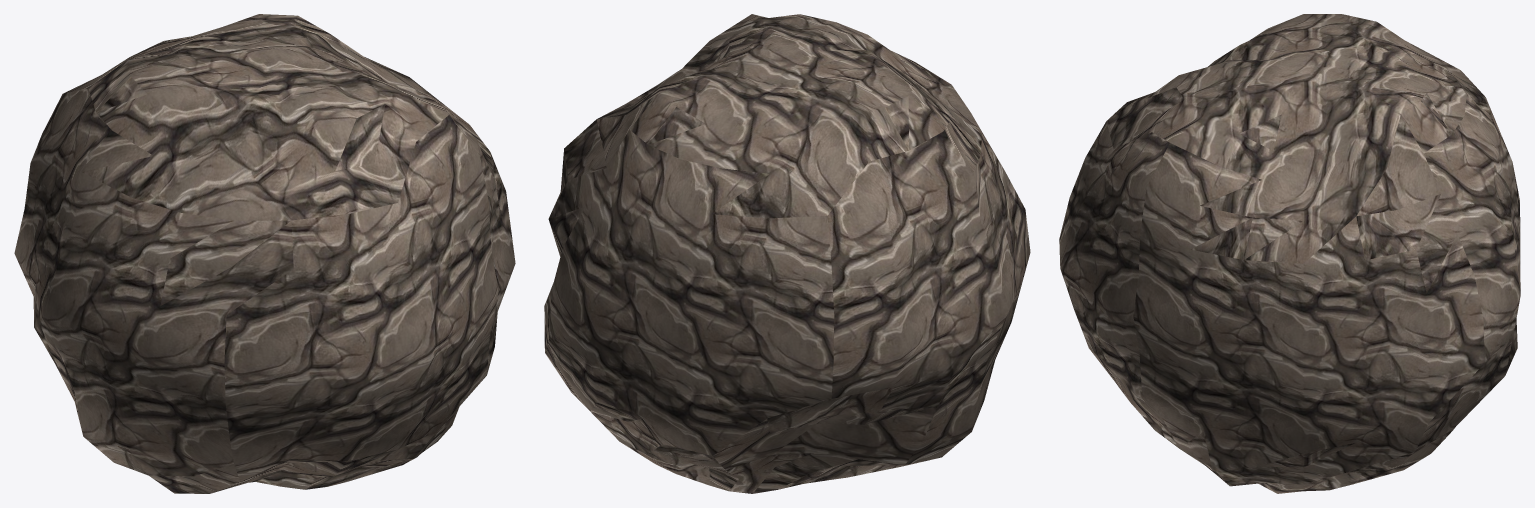
File: meteor.glb
3 renders of one model, left to right at view 1: azimuth 30°, elevation 25°; view 2: azimuth 150°, elevation 25°; view 3: azimuth 270°, elevation 25°, orthographic. The views are drawn at different scales.
Visible parts, largest first — view 1: meteor; view 2: meteor; view 3: meteor.
Part boxes in pixels (x1,y1,x2,y2): meteor: (14,14,515,493); meteor: (544,14,1030,493); meteor: (1059,14,1520,493).
Size of the model in its own units: 2.09 by 1.95 by 2.03.
2 materials, 1 textured.
